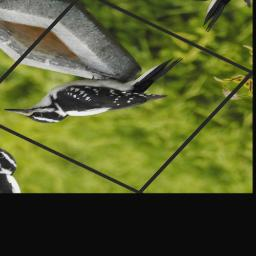Woodpecker: (0, 14, 197, 163)
